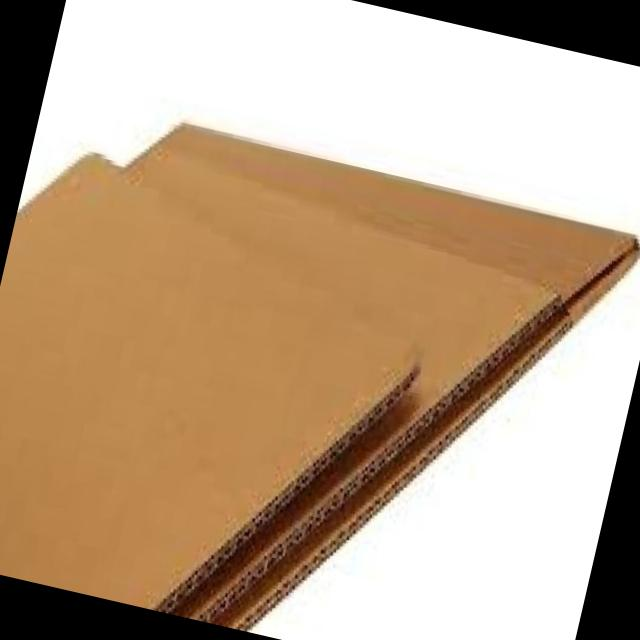cardboard paper: (0, 127, 640, 632), (0, 324, 46, 428)
